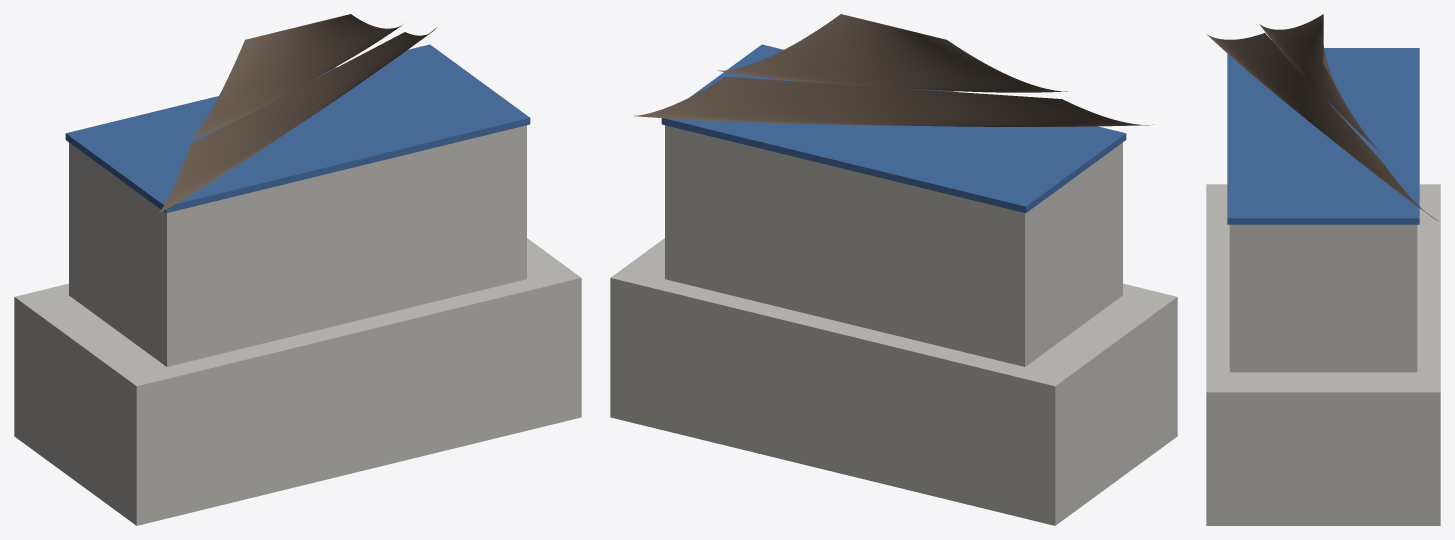
File: jianlou.glb
3 views of the same model, side by side, from view 1: azimuth 30°, elevation 25°; view 2: azimuth 150°, elevation 25°; view 3: azimuth 270°, elevation 25° (orthographic). The views are drawn at different scales.
Visible parts, largest first — view 1: jianlou; view 2: jianlou; view 3: jianlou.
Part boxes in pixels (x1=…): jianlou: x1=14, y1=14, x2=581, y2=525; jianlou: x1=610, y1=14, x2=1177, y2=525; jianlou: x1=1206, y1=14, x2=1440, y2=525.
Bounding box in the file's own units: 42 × 36.1 × 20.
